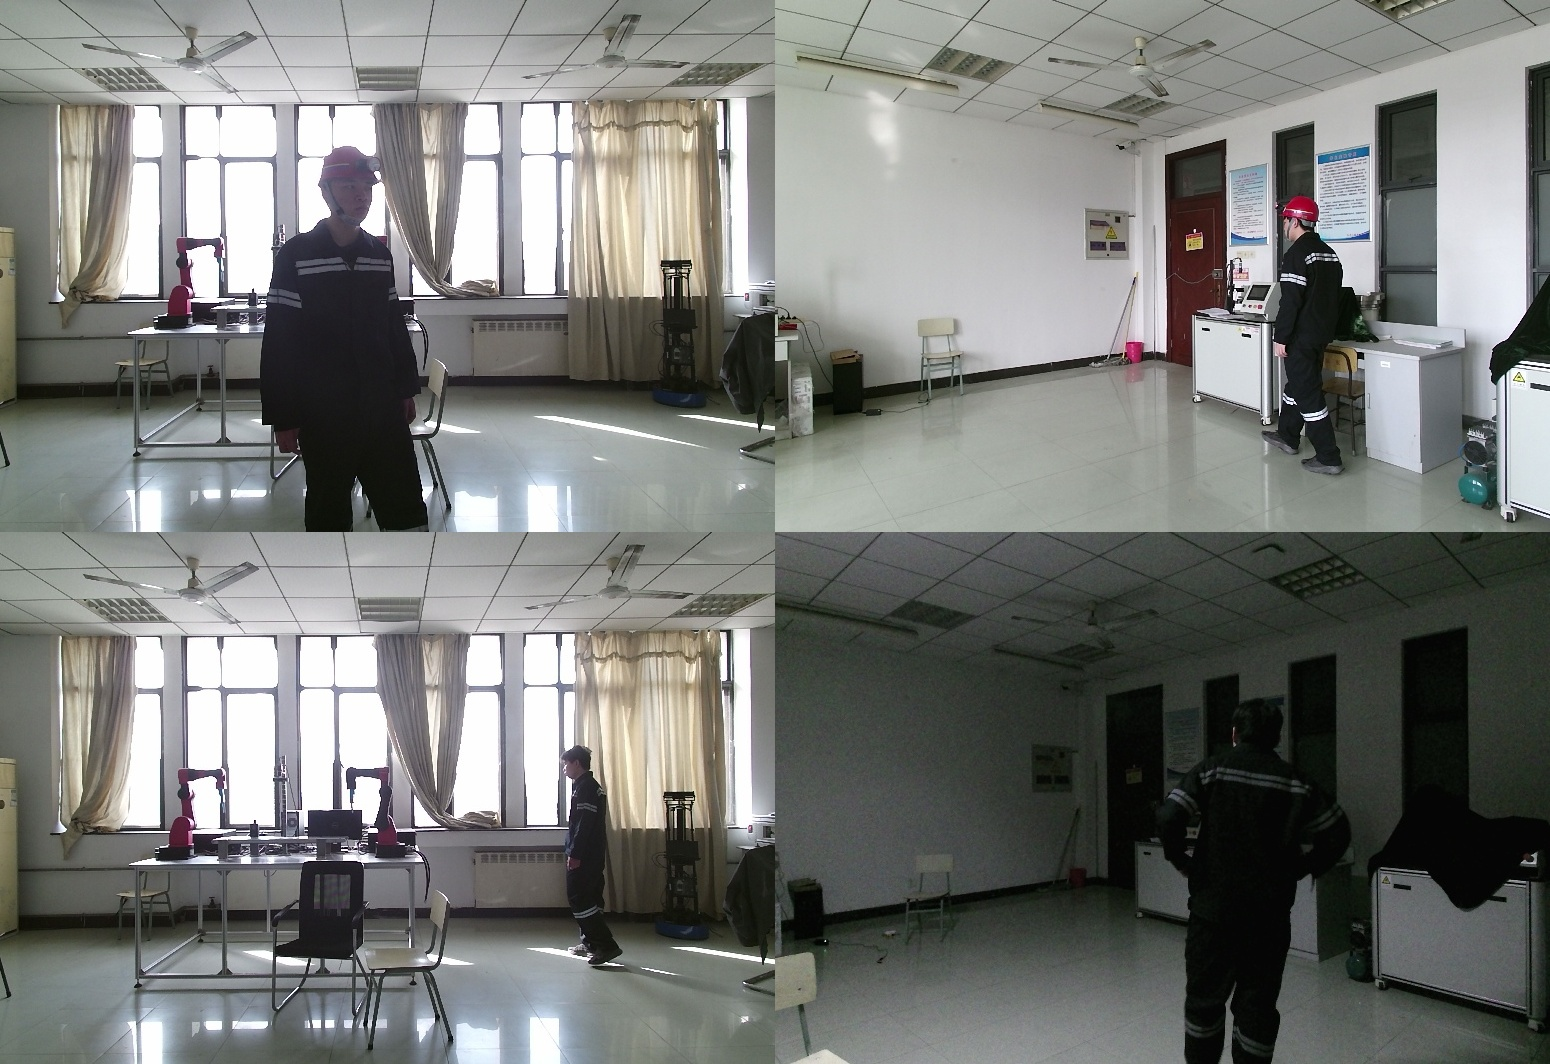person: (1165, 700, 1368, 1064), (269, 148, 438, 532), (1270, 194, 1351, 471), (561, 745, 622, 966)
